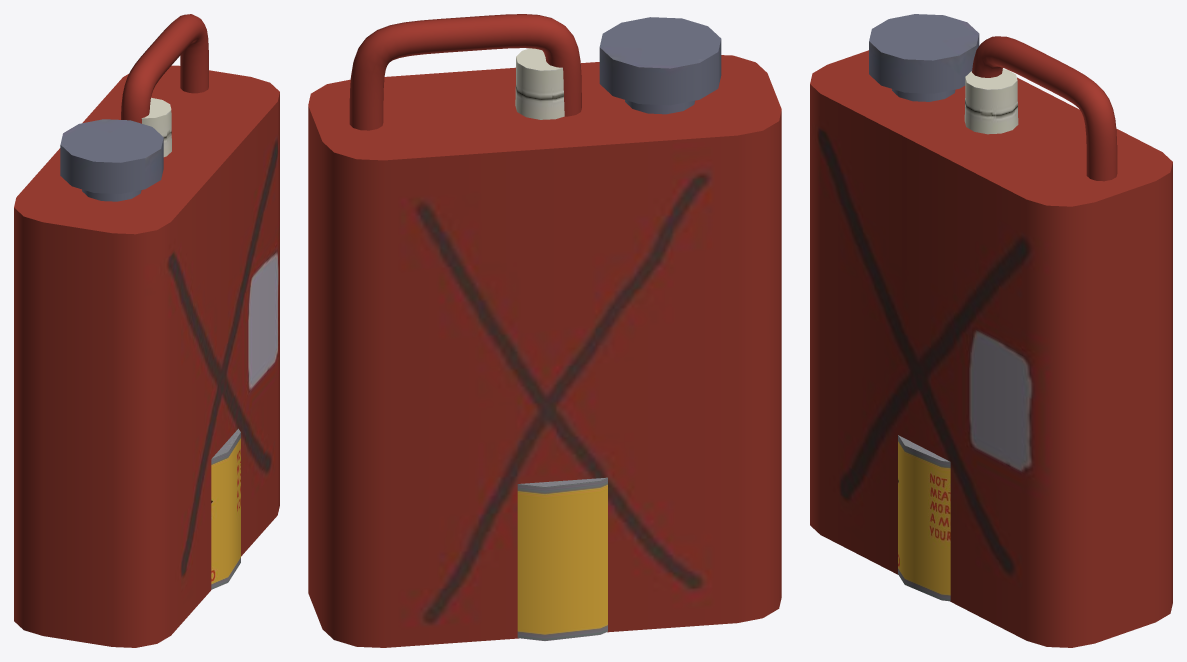
The model's file is Props.glb.
3 renders of one model, left to right at view 1: azimuth 30°, elevation 25°; view 2: azimuth 150°, elevation 25°; view 3: azimuth 270°, elevation 25°, orthographic. The views are drawn at different scales.
Visible parts, largest first — view 1: Gas Can, Handle.003, Midas Crab, Officer Bottle; view 2: Gas Can, Midas Crab, Handle.003, Officer Bottle; view 3: Gas Can, Midas Crab, Handle.003, Officer Bottle.
Part boxes in pixels (x1,y1,x2,y2): Gas Can: (14,65,279,647); Handle.003: (121,14,208,123); Midas Crab: (211,428,240,589); Officer Bottle: (141,97,171,156); Gas Can: (308,17,781,647); Midas Crab: (517,477,607,640); Handle.003: (349,14,581,130); Officer Bottle: (515,48,564,119); Gas Can: (810,14,1172,647); Midas Crab: (898,435,950,601); Handle.003: (972,36,1117,181); Officer Bottle: (964,69,1018,134).
Size of the model in its own units: 0.3794 by 0.5594 by 0.3473.
4 materials, 3 textured.
